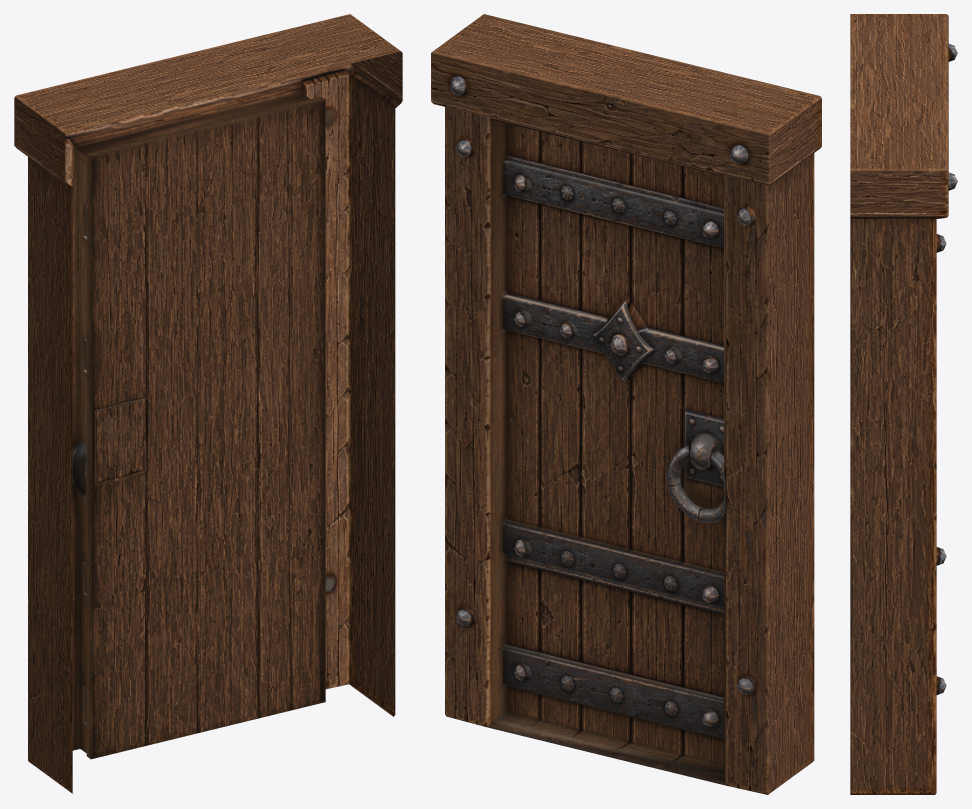
The model's file is dungeondoor.glb.
3 views of the same model, side by side, from view 1: azimuth 30°, elevation 25°; view 2: azimuth 150°, elevation 25°; view 3: azimuth 270°, elevation 25° (orthographic). The views are drawn at different scales.
Parts seen in each view (by area): view 1: door; view 2: door; view 3: door.
Part boxes in pixels (box(x1,y1,x2,y2)): door: box(14, 14, 402, 793); door: box(431, 14, 821, 794); door: box(850, 14, 957, 794).
Size of the model in its own units: 2.39 by 4.48 by 0.6944.
1 material, 1 textured.
